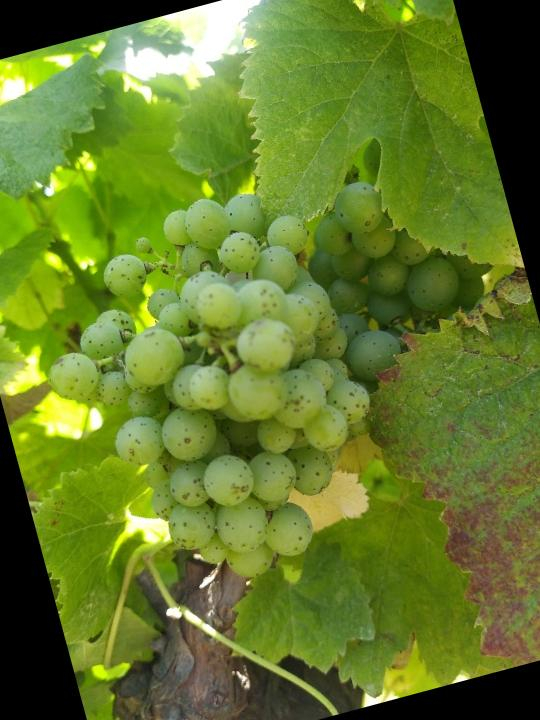grape: (12, 154, 457, 620)
